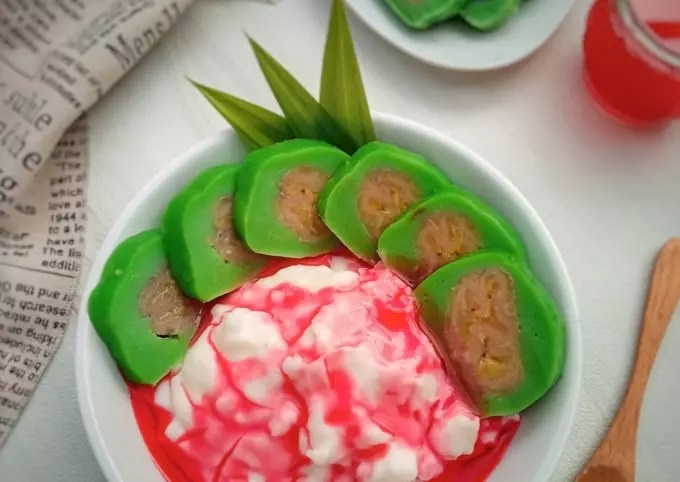pisang_ijo: (401, 255, 568, 408)
